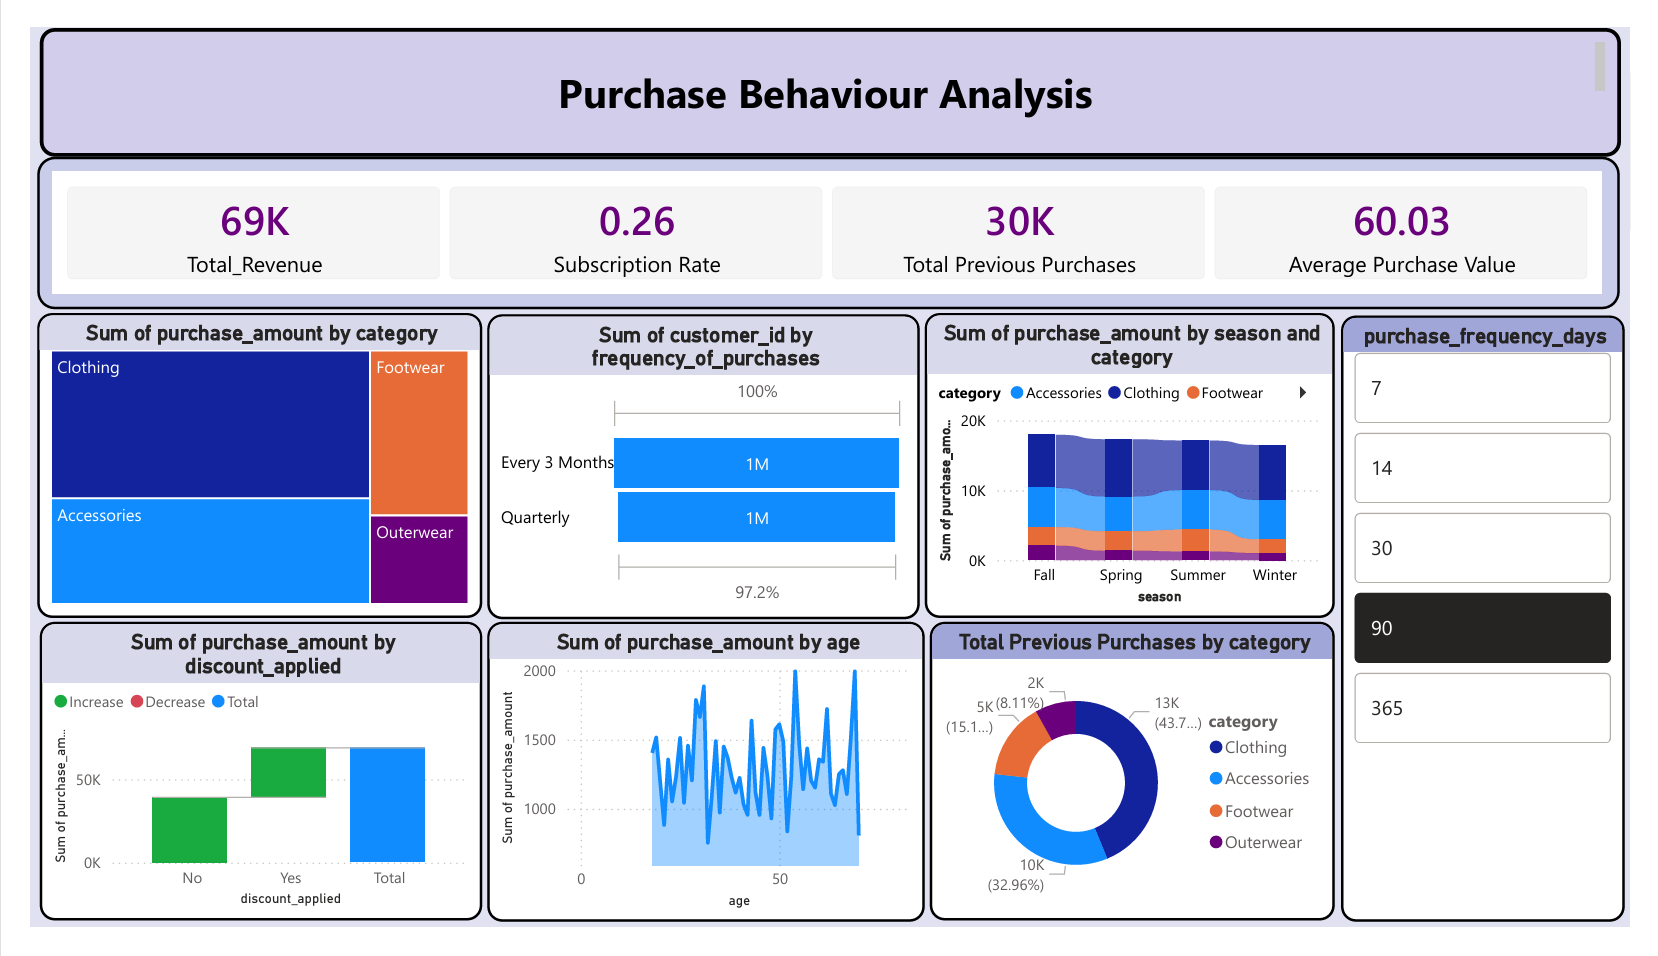

Layout of this report page (visuals, bound fields, positions):
{"tool":"powerbi","page":{"name":"Purchase Behaviour Analysis","canvas":[1280,720],"ordinal":2},"visuals":[{"type":"textbox","box":[6.7,0,1265,103.3],"z":0},{"type":"cardVisual","fields":{"Data":["CustomerAnalysis.Total_Revenue","CustomerAnalysis.Subscription Rate","CustomerAnalysis.Total Previous Purchases","CustomerAnalysis.Average Purchase Value"]},"box":[5.5,102.9,1266,122],"z":1000},{"type":"waterfallChart","fields":{"Category":["CustomerAnalysis.discount_applied"],"Y":["Sum(CustomerAnalysis.purchase_amount)"]},"box":[6.9,474.8,354,238.8],"z":2000},{"type":"funnel","fields":{"Category":["CustomerAnalysis.frequency_of_purchases"],"Y":["Sum(CustomerAnalysis.customer_id)"]},"box":[365,229.2,345.8,244.3],"z":3000},{"type":"treemap","fields":{"Group":["CustomerAnalysis.category"],"Values":["Sum(CustomerAnalysis.purchase_amount)"]},"box":[5.5,227.8,355.4,244.3],"z":4000},{"type":"donutChart","fields":{"Category":["CustomerAnalysis.category"],"Y":["CustomerAnalysis.Total Previous Purchases"]},"box":[719,474.8,323.8,238.8],"z":5000},{"type":"areaChart","fields":{"Y":["Sum(CustomerAnalysis.purchase_amount)"],"Category":["CustomerAnalysis.age"]},"box":[365,474.8,349.9,240.1],"z":6000},{"type":"ribbonChart","fields":{"Category":["CustomerAnalysis.season"],"Series":["CustomerAnalysis.category"],"Y":["Sum(CustomerAnalysis.purchase_amount)"]},"box":[714.9,227.8,328,244.3],"z":7000},{"type":"advancedSlicerVisual","fields":{"Values":["CustomerAnalysis.purchase_frequency_days"]},"box":[1048.3,230,226.7,485],"z":8000}]}

Visuals, with their boxes in screenshot pixels (x1, y1, x2, y2), scaled from the page's 1280x720 canvas onto the 1658x956 screenshot:
textbox: left=9, top=0, right=1647, bottom=137
cardVisual - CustomerAnalysis.Total_Revenue x CustomerAnalysis.Subscription Rate: left=7, top=137, right=1647, bottom=299
waterfallChart - CustomerAnalysis.discount_applied x Sum(CustomerAnalysis.purchase_amount): left=9, top=630, right=467, bottom=948
funnel - CustomerAnalysis.frequency_of_purchases x Sum(CustomerAnalysis.customer_id): left=473, top=304, right=921, bottom=629
treemap - CustomerAnalysis.category x Sum(CustomerAnalysis.purchase_amount): left=7, top=302, right=467, bottom=627
donutChart - CustomerAnalysis.category x CustomerAnalysis.Total Previous Purchases: left=931, top=630, right=1351, bottom=948
areaChart - Sum(CustomerAnalysis.purchase_amount) x CustomerAnalysis.age: left=473, top=630, right=926, bottom=949
ribbonChart - CustomerAnalysis.season x CustomerAnalysis.category: left=926, top=302, right=1351, bottom=627
advancedSlicerVisual - CustomerAnalysis.purchase_frequency_days: left=1358, top=305, right=1652, bottom=949
